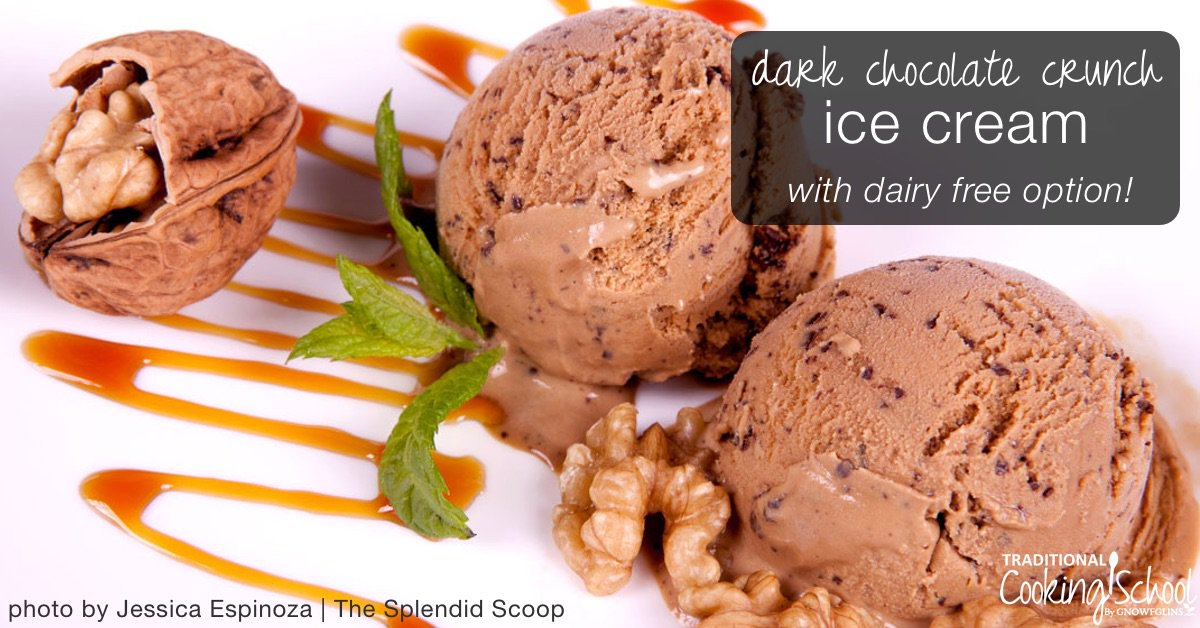ice-cream: (725, 260, 1174, 628), (435, 8, 832, 385)
